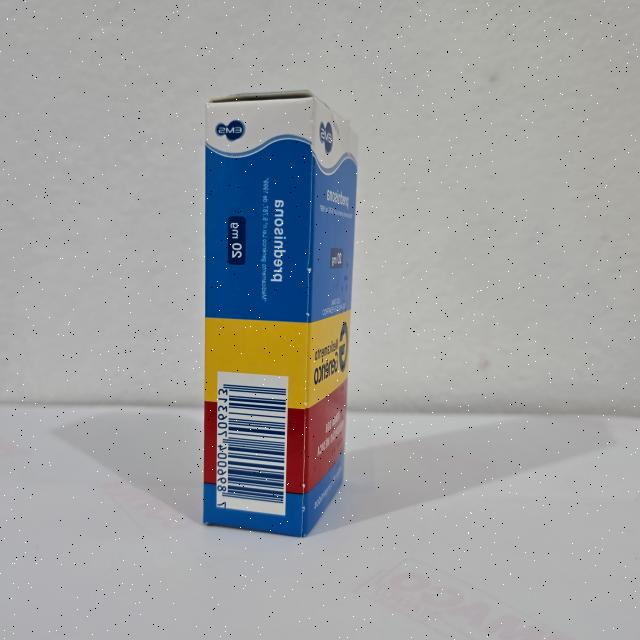prednisona: (194, 84, 366, 543)
